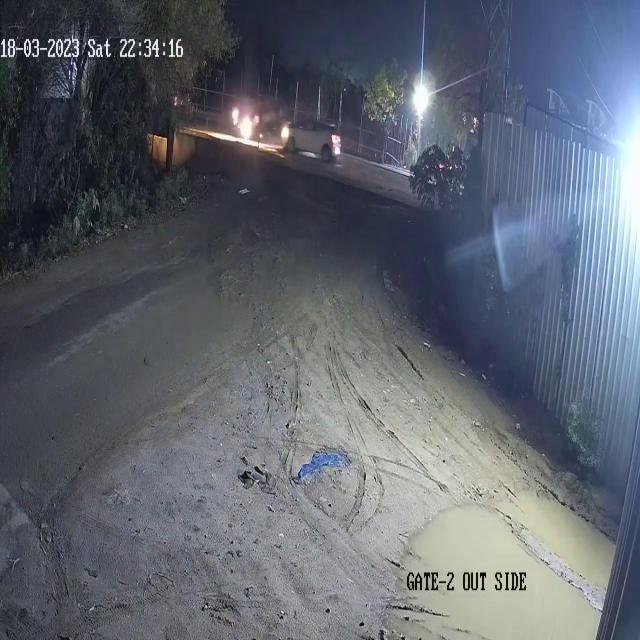accident: (230, 86, 343, 165)
